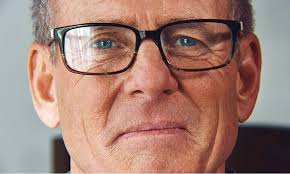Glasses: (38, 15, 251, 75)
